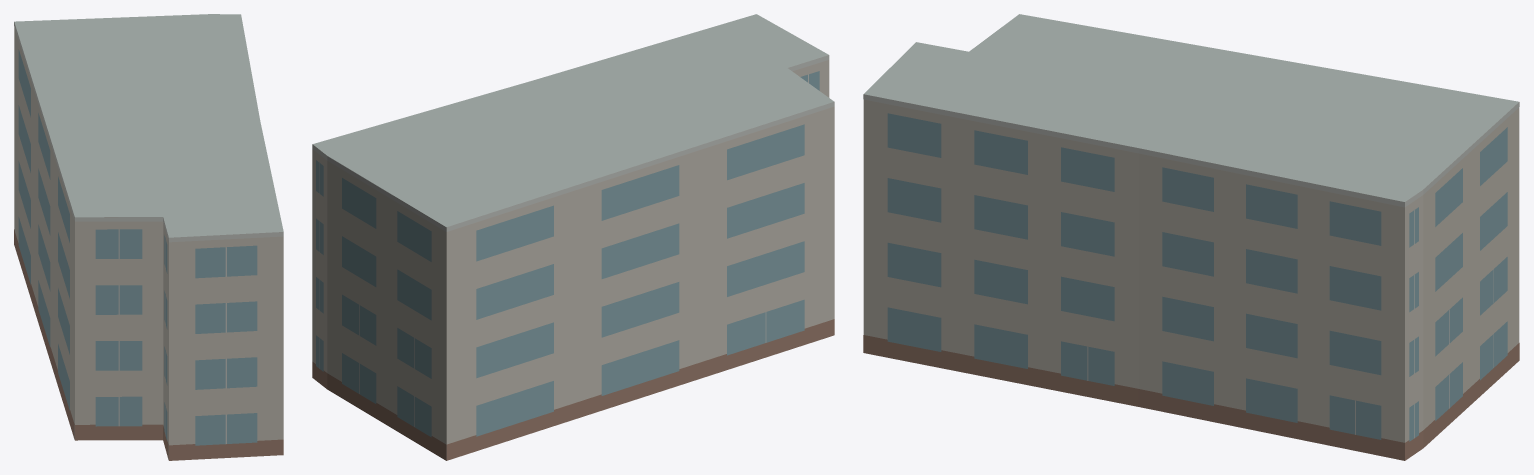
File: survey-upis-32823948.glb
3 views of the same model, side by side, from view 1: azimuth 30°, elevation 25°; view 2: azimuth 150°, elevation 25°; view 3: azimuth 270°, elevation 25° (orthographic). The views are drawn at different scales.
Visible parts, largest first — view 1: survey-upis-32823948.tmp; view 2: survey-upis-32823948.tmp; view 3: survey-upis-32823948.tmp.
Boxes of the visible parts, box(x1,y1,x2,y2) form: survey-upis-32823948.tmp: box(14, 14, 283, 460); survey-upis-32823948.tmp: box(312, 14, 834, 460); survey-upis-32823948.tmp: box(863, 14, 1519, 460).
Size of the model in its own units: 18.56 by 11.9 by 27.35.
